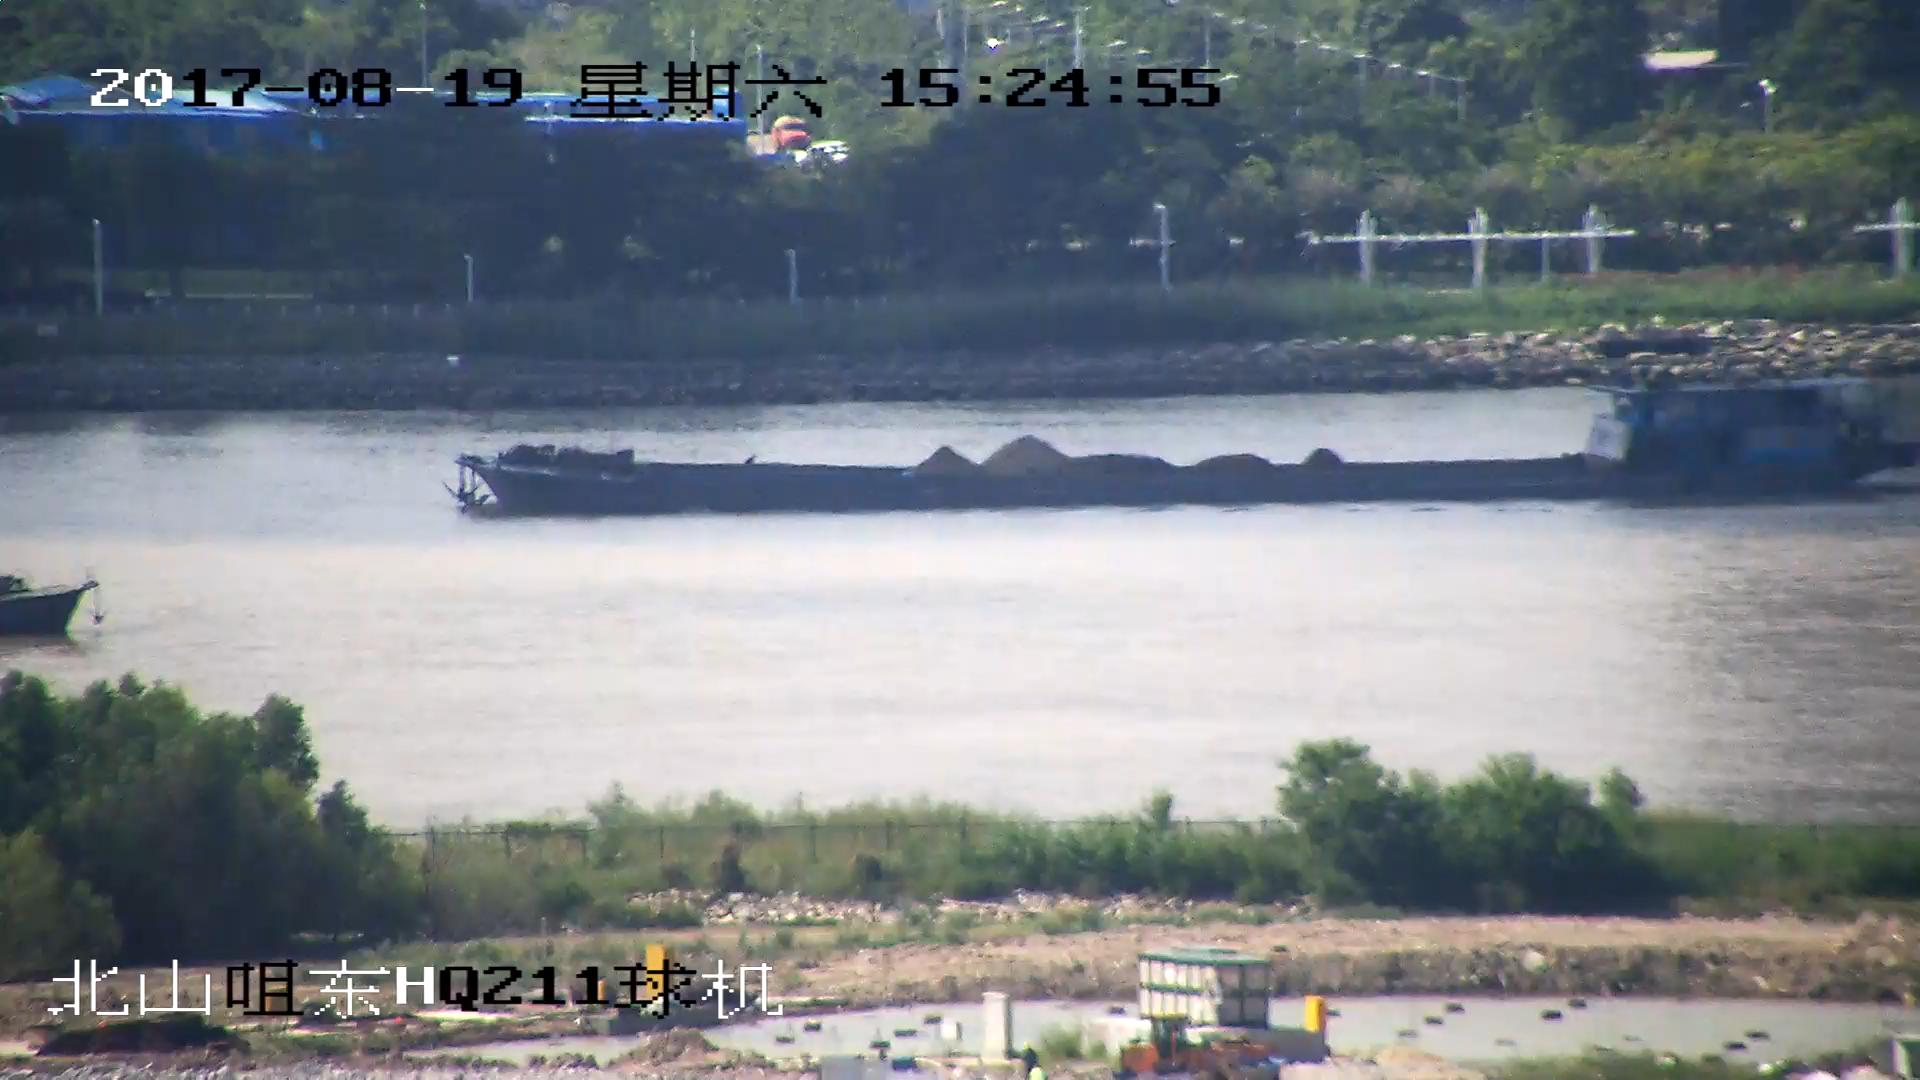ore carrier: (458, 366, 1884, 522)
